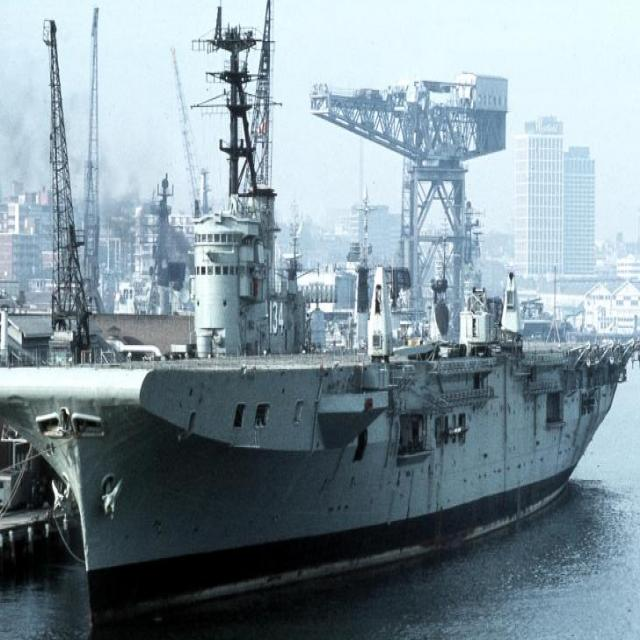Portanaves: (1, 154, 640, 640)
